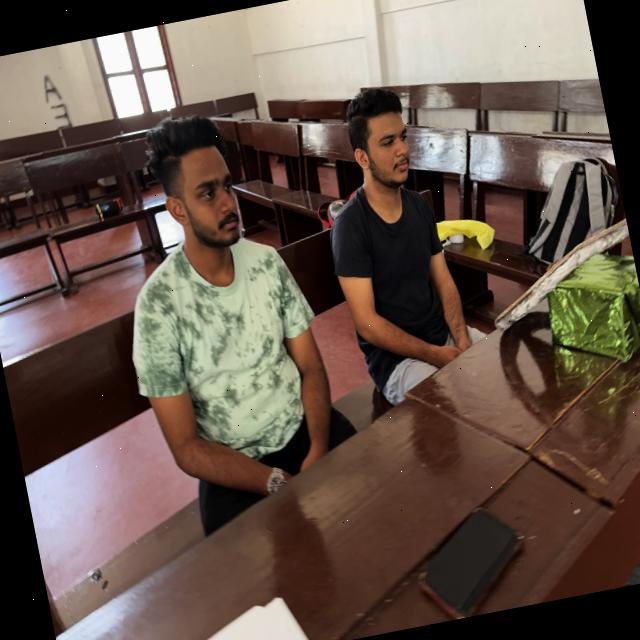no-seatbelt: (130, 232, 330, 493), (326, 180, 470, 396)
